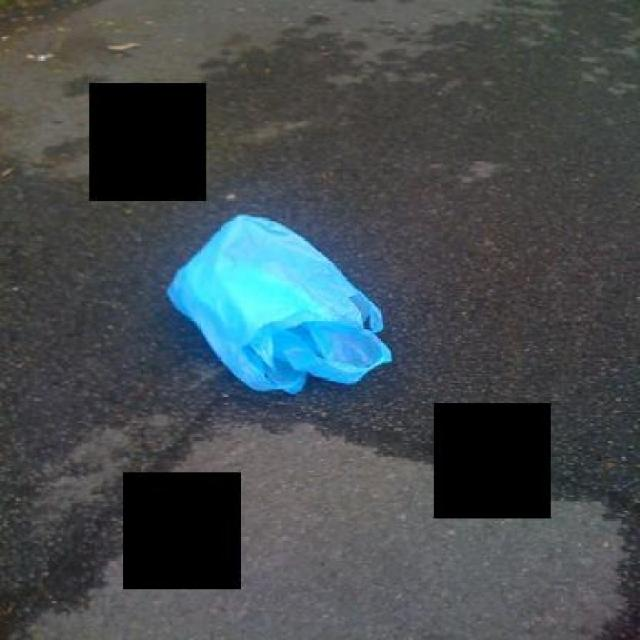plastic bag: (160, 209, 392, 397)
